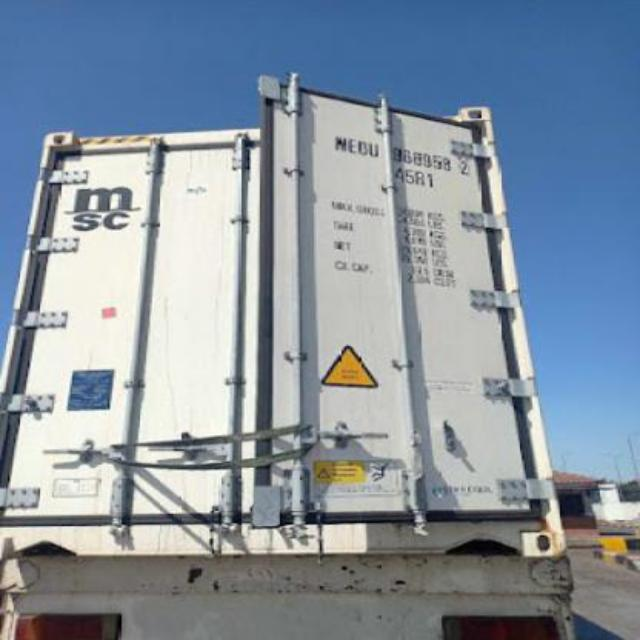2: (458, 160, 468, 173)
5: (432, 154, 442, 170)
6: (402, 149, 414, 165), (414, 152, 424, 166)
8: (442, 157, 452, 173)
9: (392, 146, 404, 164), (424, 154, 432, 168)
D: (356, 138, 368, 156)
E: (348, 140, 358, 152)
M: (332, 135, 348, 153)
U: (370, 143, 378, 159)
